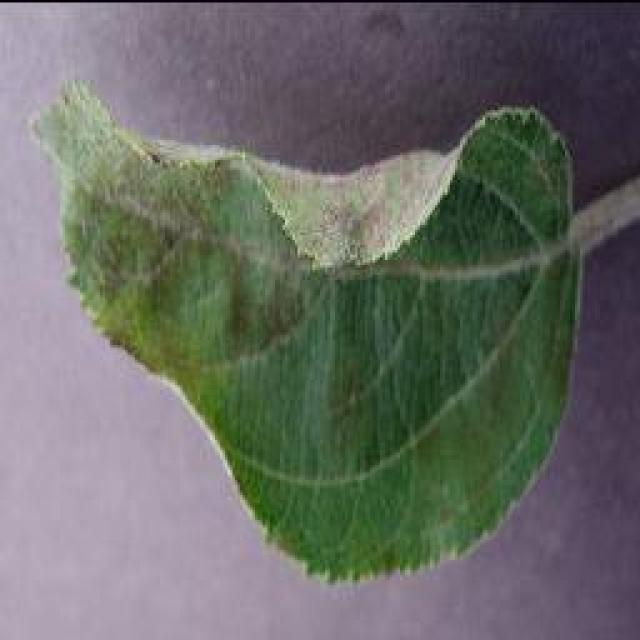apple scab disease: (27, 75, 585, 585)
